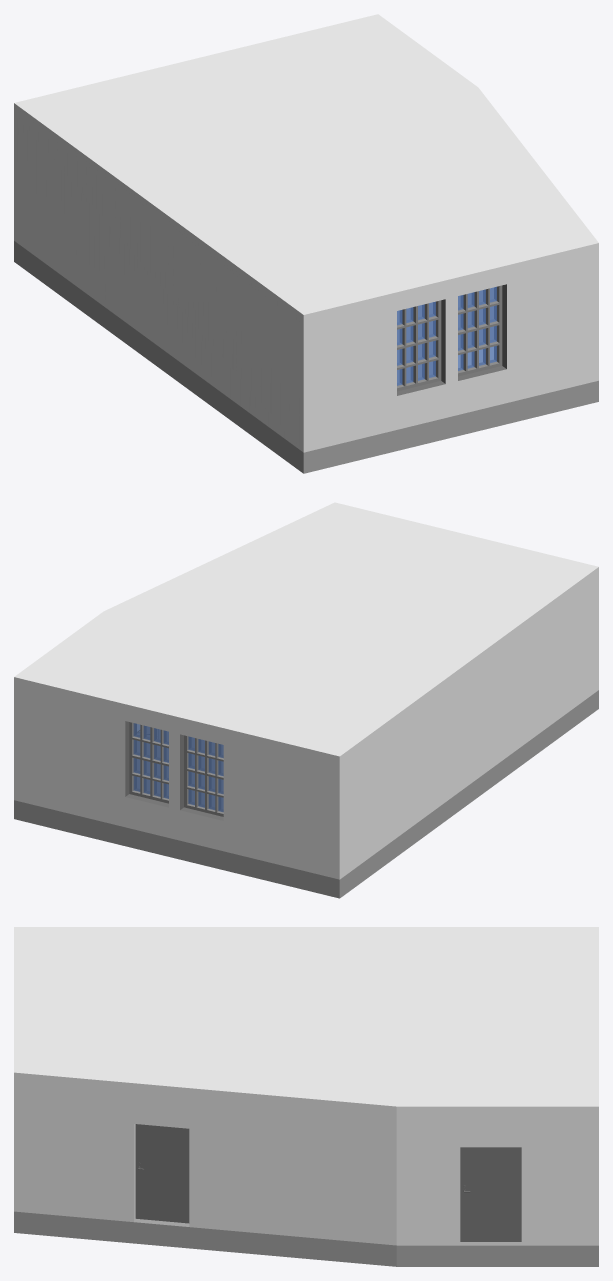
Rendered from room.gltf.
3 renders of one model, top to bottom at view 1: azimuth 30°, elevation 25°; view 2: azimuth 150°, elevation 25°; view 3: azimuth 270°, elevation 25°, orthographic. The views are drawn at different scales.
Parts seen in each view (by area): view 1: object 2, object 43, object 21, object 9, object 18, object 27; view 2: object 2, object 43, object 21, object 16, object 22, object 23; view 3: object 2, object 43, object 21, IT_Turblatt_A#3 (×2).
Part boxes in pixels (x1,y1,x2,y2): object 2: (14,14,598,325); object 43: (14,114,598,452); object 21: (14,241,598,473); object 9: (397,287,496,385); object 18: (397,300,441,391); object 27: (458,285,502,376); object 2: (14,502,598,765); object 43: (14,576,598,879); object 21: (14,690,598,898); object 16: (133,723,223,811); object 22: (129,722,168,803); object 23: (184,735,223,816); object 2: (14,927,598,1117); object 43: (14,1083,598,1245); object 21: (14,1211,598,1266); IT_Turblatt_A#3 (×2): (135,1124,521,1241).
Bounding box in the file's own units: 9 × 3.75 × 12.4.
